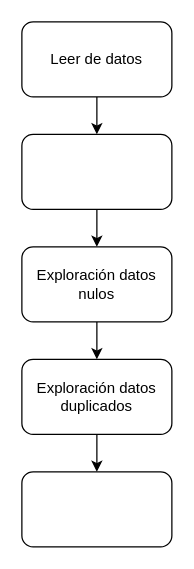
The diagram is 194 pixels wide and 569 high, and some of its shapes have lost their labels. Here are the shapes that lost their labels. From the top down, the centre of each, then its label:
(96,171): Exploración cantidad de variables y tipo
(96,509): Exploración consistencia de los datos
